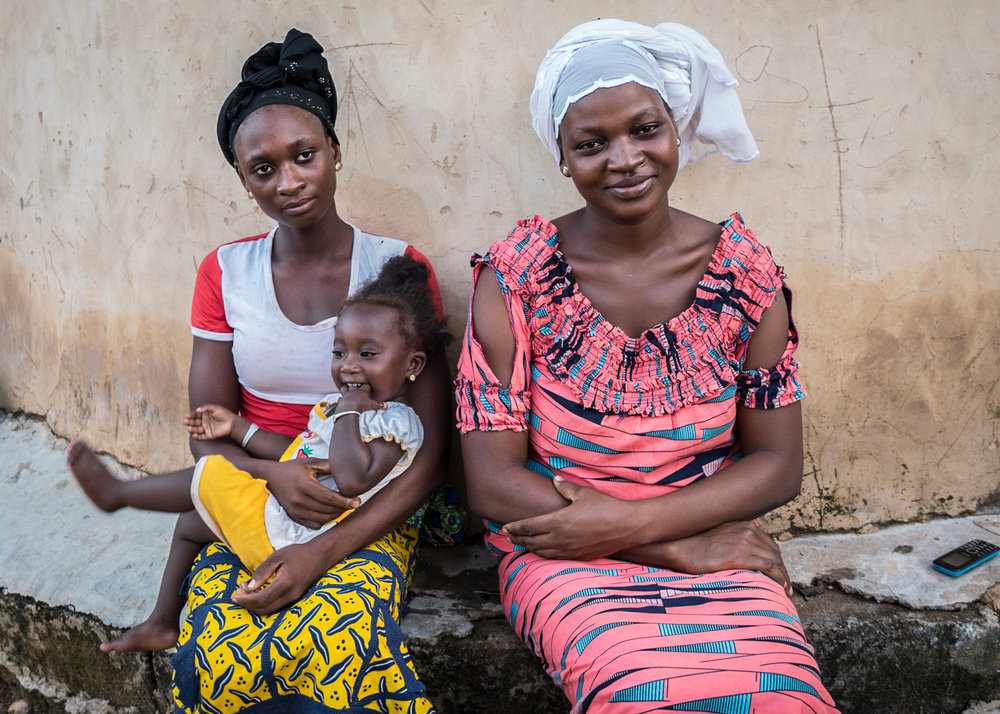Person: (465, 13, 846, 714), (113, 32, 444, 714), (43, 244, 458, 669)
